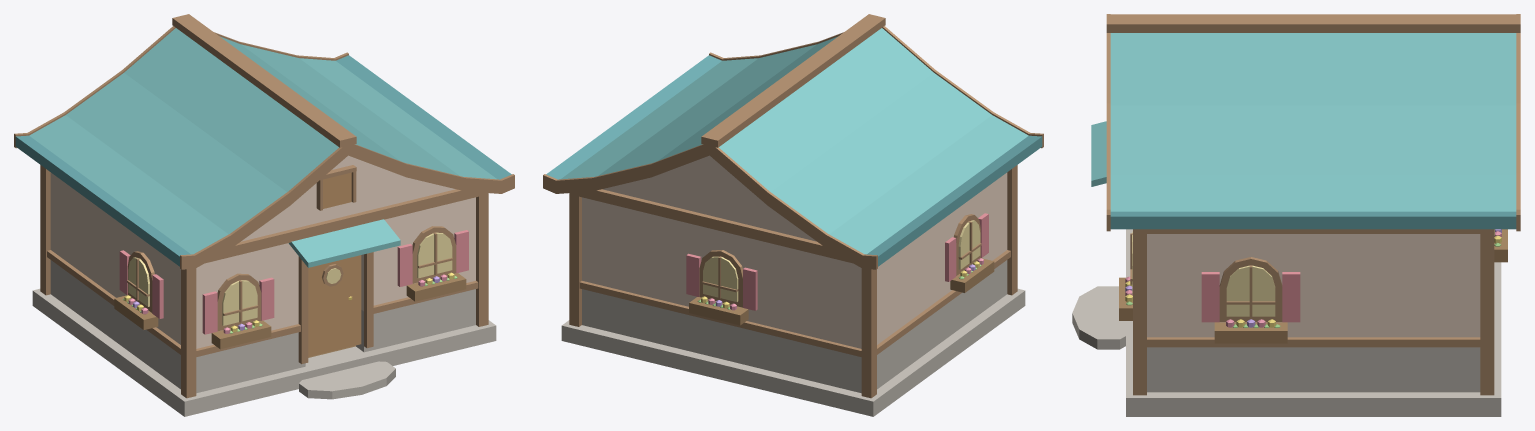
Rendered from farmhouse_peach.glb.
3 renders of one model, left to right at view 1: azimuth 30°, elevation 25°; view 2: azimuth 150°, elevation 25°; view 3: azimuth 270°, elevation 25°, orthographic. The views are drawn at different scales.
Parts seen in each view (by area): view 1: Player; view 2: Player; view 3: Player.
Boxes of the visible parts, bbox=[...] form: Player: bbox=[14, 14, 514, 416]; Player: bbox=[543, 14, 1043, 416]; Player: bbox=[1072, 14, 1520, 416].
Bounding box in the file's own units: 6.84 × 4.82 × 6.45.
